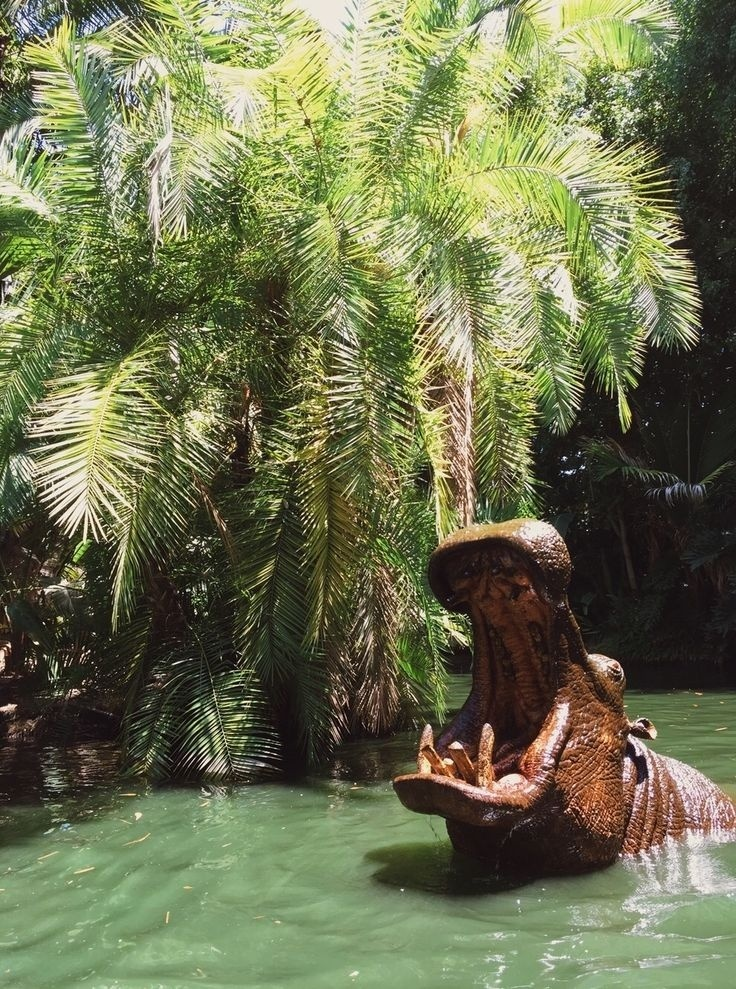hipopotamo: (366, 491, 736, 919)
